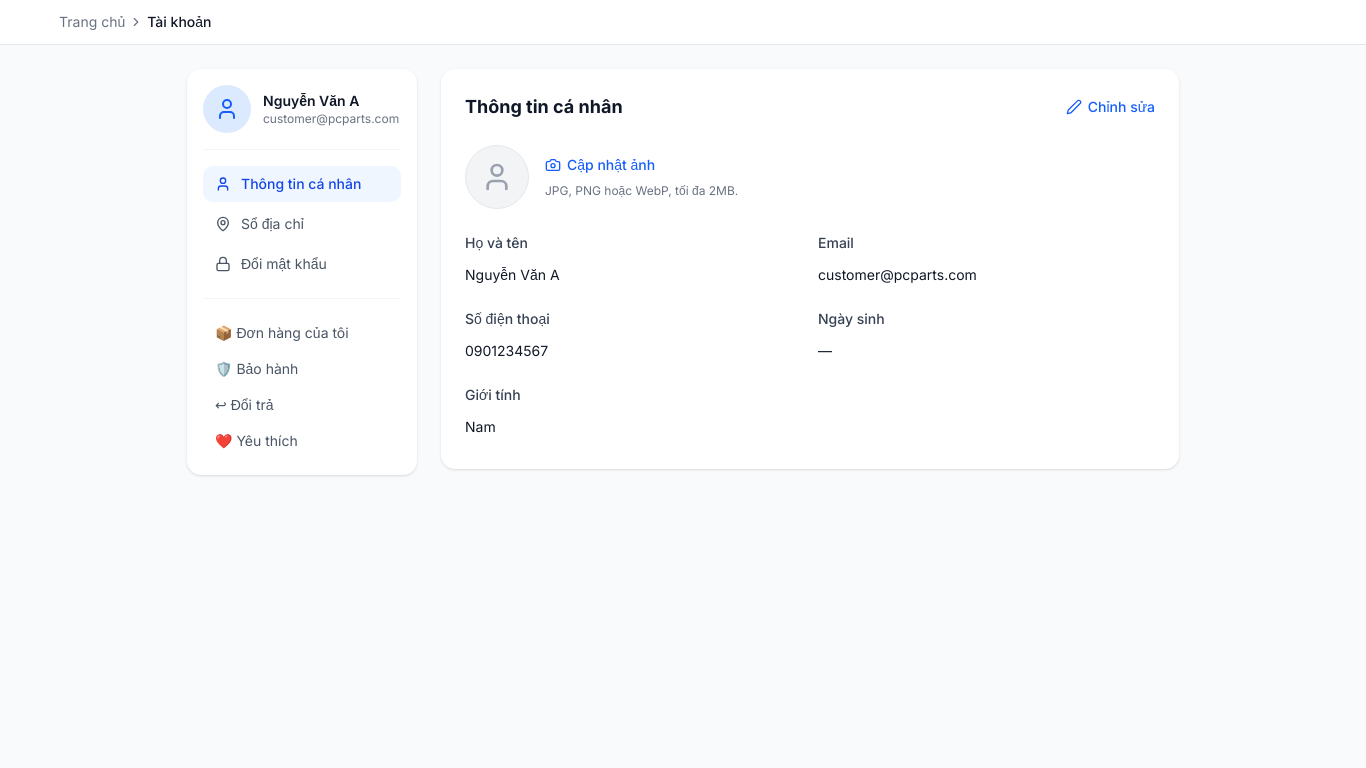
it: ProfilePage › does not delete the only address from the address book UI
The image size is (1366, 768).
Click the button "Sổ địa chỉ" at {"x": 302, "y": 224}, box [203,206,401,242]
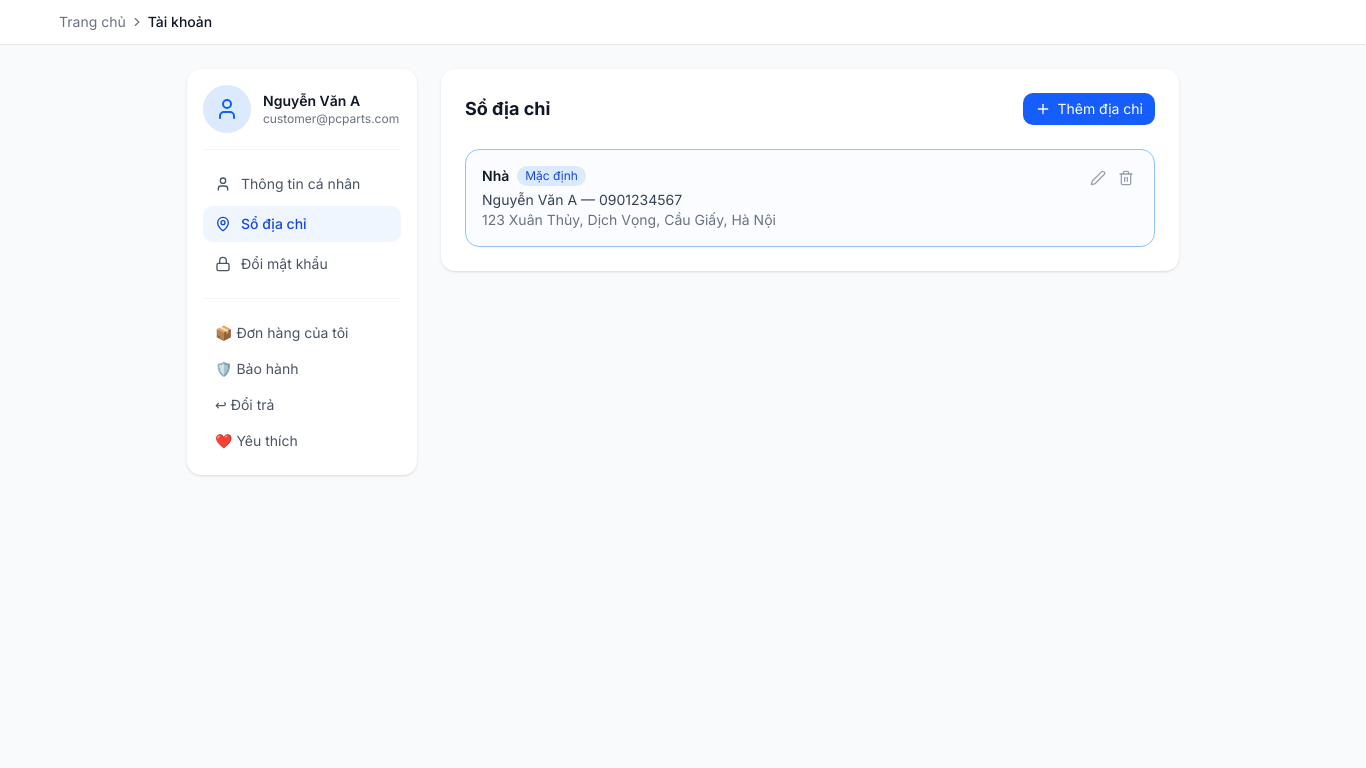
Check: the text "123 Xuân Thủy, Dịch Vọng, Cầu Giấy, Hà Nội" is shown, box [482,210,776,230]
Click the button named "Xóa địa chỉ" at {"x": 1126, "y": 178}, box [1114,166,1138,190]
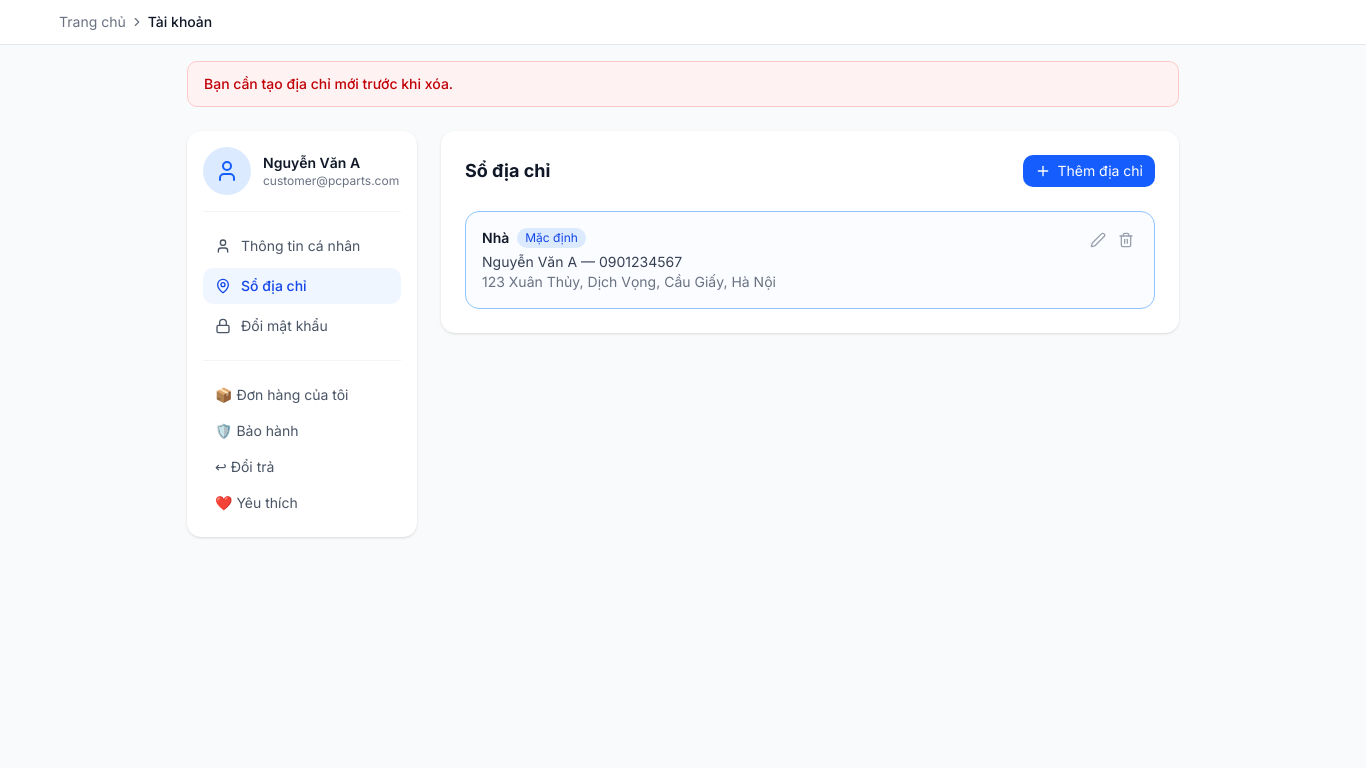
Check: the text "Bạn cần tạo địa chỉ mới trước khi xóa." is shown, box [187,61,1179,107]
